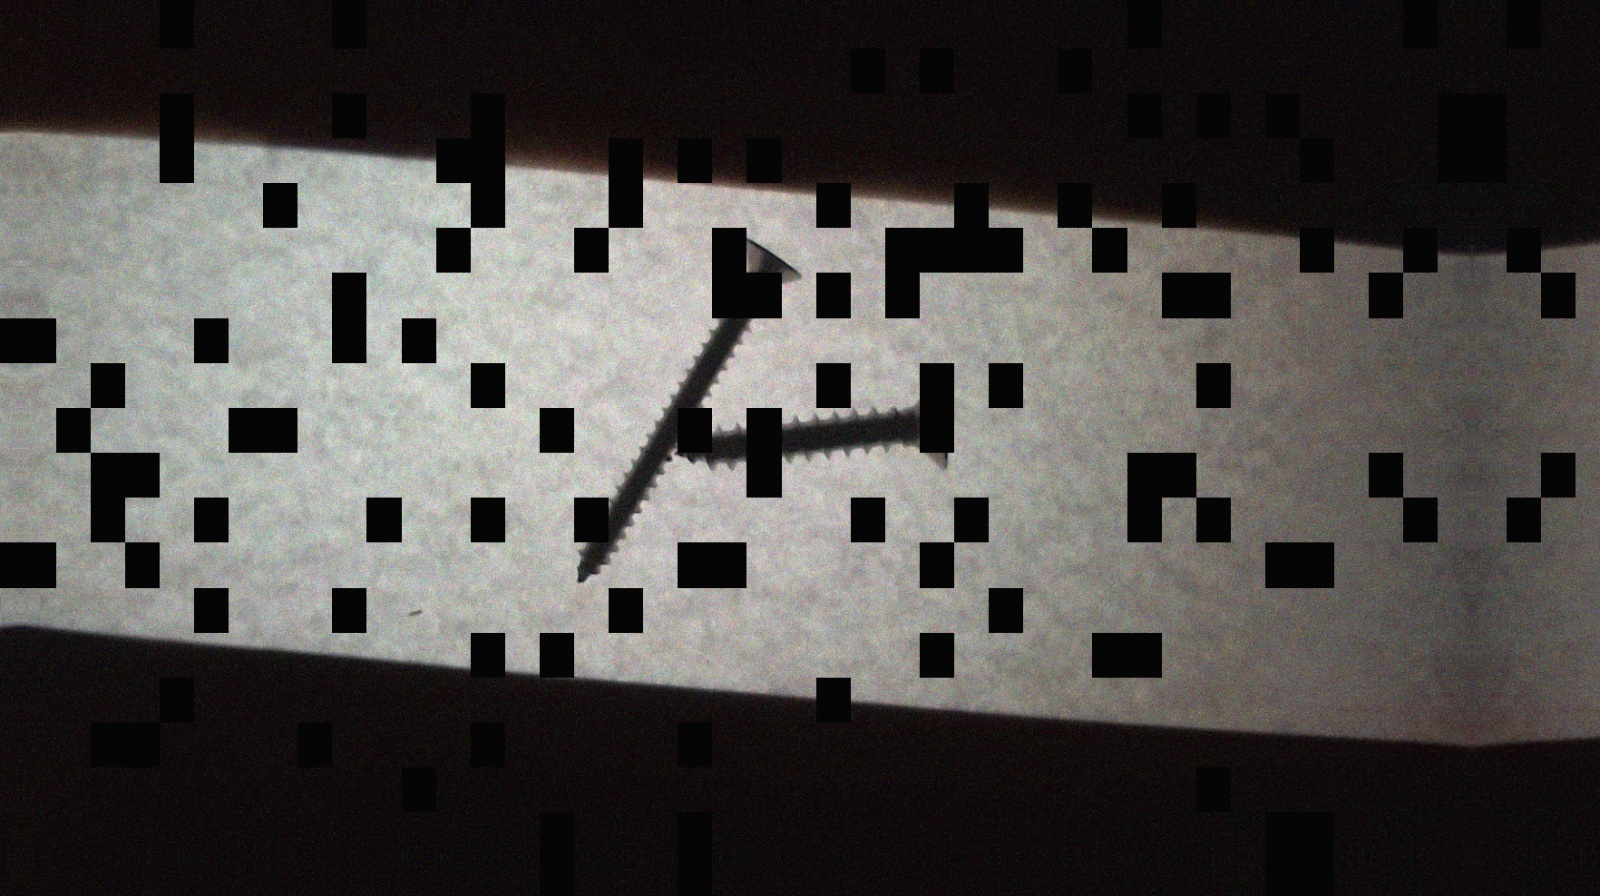S001: (677, 376, 957, 482)
S002: (567, 236, 805, 590)
